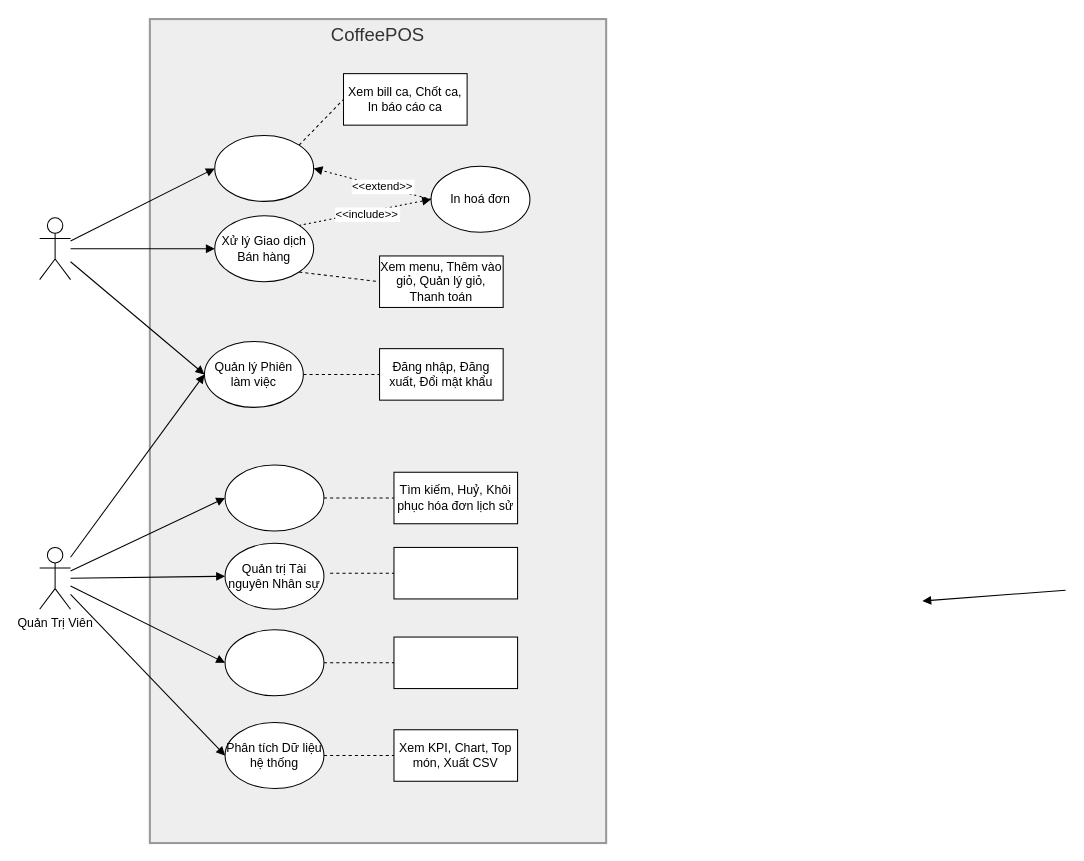
Image size: 1084x861. Some labels were removed from this diagram. Here are the shapes that lost their labels. From the top down, the centre of each, then its label:
the point at 264,167: Quản lý Ca làm việc
the point at 55,248: Thu Ngân
the point at 274,497: Xử lý Sự cố Hoá đơn
the point at 455,572: Thêm/Sửa/Khoá User
the point at 274,662: Quản trị Danh mục bán hàng
the point at 455,662: Thêm/Sửa/Xóa/Khôi phục Product và Category
